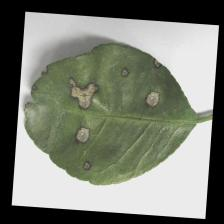greening: (64, 56, 163, 171)
